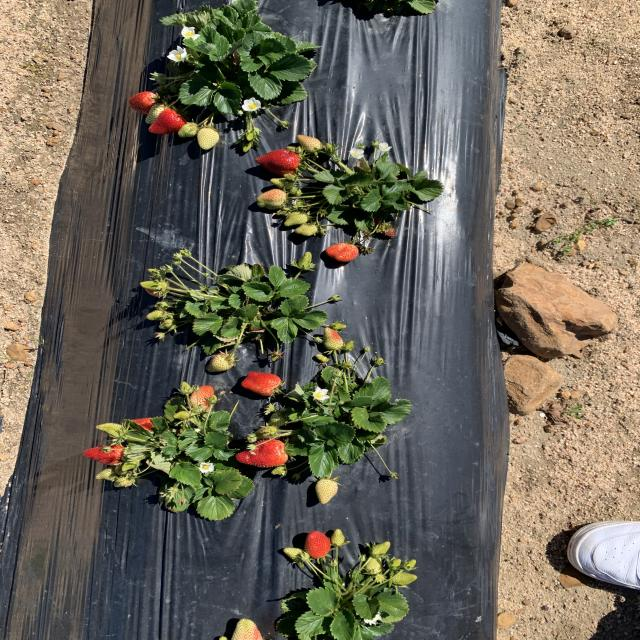unripe: (233, 437, 293, 470), (148, 107, 192, 136), (79, 442, 131, 466), (239, 370, 285, 397), (256, 149, 304, 174), (128, 89, 164, 116), (122, 416, 166, 436), (304, 531, 334, 559), (325, 243, 359, 264)
